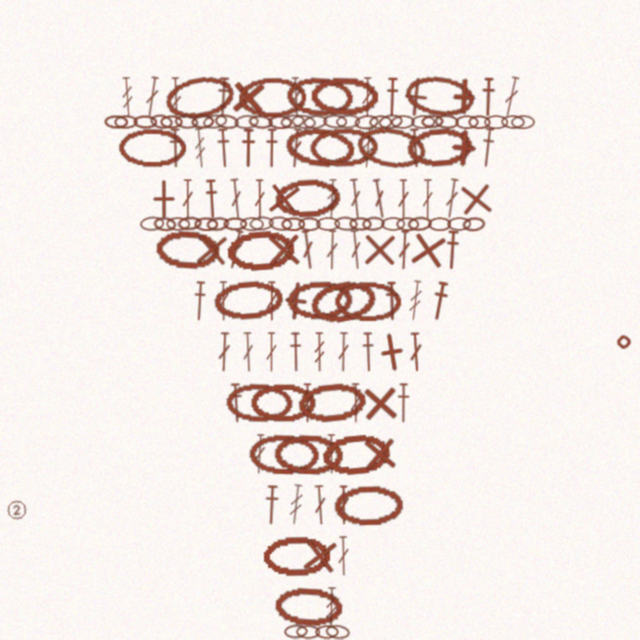chain: (162, 71, 238, 123), (307, 275, 380, 327), (354, 123, 429, 173), (403, 72, 477, 121), (283, 124, 356, 171), (320, 431, 391, 477), (296, 380, 367, 426), (212, 278, 284, 323), (405, 125, 475, 170), (273, 585, 343, 629), (225, 228, 295, 272), (285, 75, 355, 119), (154, 228, 222, 272), (248, 433, 319, 475), (333, 484, 403, 526), (273, 433, 343, 475), (274, 177, 342, 220), (225, 382, 294, 424), (309, 127, 378, 168), (262, 535, 330, 576), (286, 280, 354, 321), (310, 76, 378, 117), (118, 128, 186, 168), (238, 77, 306, 117), (250, 383, 317, 423), (334, 281, 401, 321), (202, 113, 228, 130), (268, 215, 293, 232), (149, 113, 174, 130), (214, 113, 239, 130), (280, 113, 305, 130), (378, 113, 403, 130), (325, 624, 350, 640), (174, 114, 199, 130), (234, 114, 259, 130), (248, 114, 273, 130), (291, 114, 316, 130), (303, 114, 328, 130), (354, 114, 379, 130), (153, 216, 177, 232), (206, 216, 230, 232), (462, 216, 486, 232), (177, 216, 202, 231), (249, 216, 274, 231), (407, 216, 432, 231), (434, 114, 459, 129), (284, 624, 308, 639), (140, 216, 164, 231), (334, 216, 358, 231), (323, 114, 347, 129), (336, 114, 360, 129), (362, 216, 385, 231), (191, 114, 214, 129), (421, 114, 444, 129), (296, 625, 320, 639), (315, 625, 339, 639), (166, 217, 190, 231), (194, 217, 218, 231), (223, 217, 247, 231), (240, 217, 264, 231), (281, 217, 305, 231), (316, 217, 340, 231), (381, 217, 405, 231), (447, 217, 471, 231), (104, 115, 128, 129), (114, 115, 138, 129), (133, 115, 157, 129), (268, 115, 292, 129), (391, 115, 415, 129), (411, 115, 435, 129), (455, 115, 479, 129), (484, 115, 508, 129), (501, 115, 525, 129), (511, 115, 535, 129), (298, 217, 321, 231), (349, 217, 372, 231), (396, 217, 419, 231), (428, 217, 451, 231), (160, 115, 183, 129), (369, 115, 392, 129), (468, 115, 491, 129)
double: (225, 229, 246, 270), (501, 76, 522, 117), (370, 178, 389, 219), (299, 229, 317, 270), (443, 178, 461, 219), (143, 76, 161, 117), (347, 178, 364, 219), (348, 229, 364, 270), (228, 178, 244, 219), (312, 485, 328, 525), (408, 332, 424, 372), (288, 128, 304, 168), (252, 434, 267, 474), (217, 332, 231, 372), (241, 332, 255, 372), (325, 230, 339, 270), (397, 230, 411, 270), (289, 77, 303, 117), (337, 536, 350, 576), (337, 485, 350, 525), (325, 434, 338, 474), (301, 383, 314, 423), (349, 383, 362, 423), (265, 332, 278, 372), (337, 332, 350, 372), (217, 281, 230, 321), (265, 281, 278, 321), (181, 179, 194, 219), (253, 179, 266, 219), (397, 179, 410, 219), (421, 179, 434, 219), (361, 77, 374, 117)
half_double: (428, 280, 451, 322), (478, 127, 497, 168), (227, 383, 245, 423), (443, 230, 461, 270), (263, 485, 280, 525), (191, 281, 208, 321), (203, 179, 220, 219), (215, 128, 232, 168), (407, 128, 424, 168), (215, 77, 232, 117), (360, 332, 376, 372), (384, 281, 400, 321), (240, 128, 256, 168), (384, 77, 400, 117), (480, 77, 496, 117), (396, 383, 411, 423), (288, 332, 303, 372), (168, 128, 183, 168), (264, 128, 279, 168)
noise: (5, 498, 29, 522), (615, 333, 633, 351)
single: (369, 329, 415, 375), (405, 227, 451, 273), (297, 533, 342, 578), (274, 279, 318, 323), (262, 177, 306, 221), (454, 177, 498, 221), (394, 75, 438, 119), (358, 432, 401, 475), (190, 228, 233, 271), (359, 382, 401, 424), (443, 127, 485, 169), (227, 76, 269, 118), (263, 229, 304, 270), (359, 229, 400, 270), (443, 76, 484, 117), (144, 179, 184, 219)
treble: (287, 484, 305, 525), (407, 280, 424, 321), (192, 128, 208, 168), (360, 128, 376, 168), (120, 77, 135, 117), (325, 179, 339, 219), (169, 77, 183, 117), (325, 587, 338, 627), (313, 332, 326, 372)
